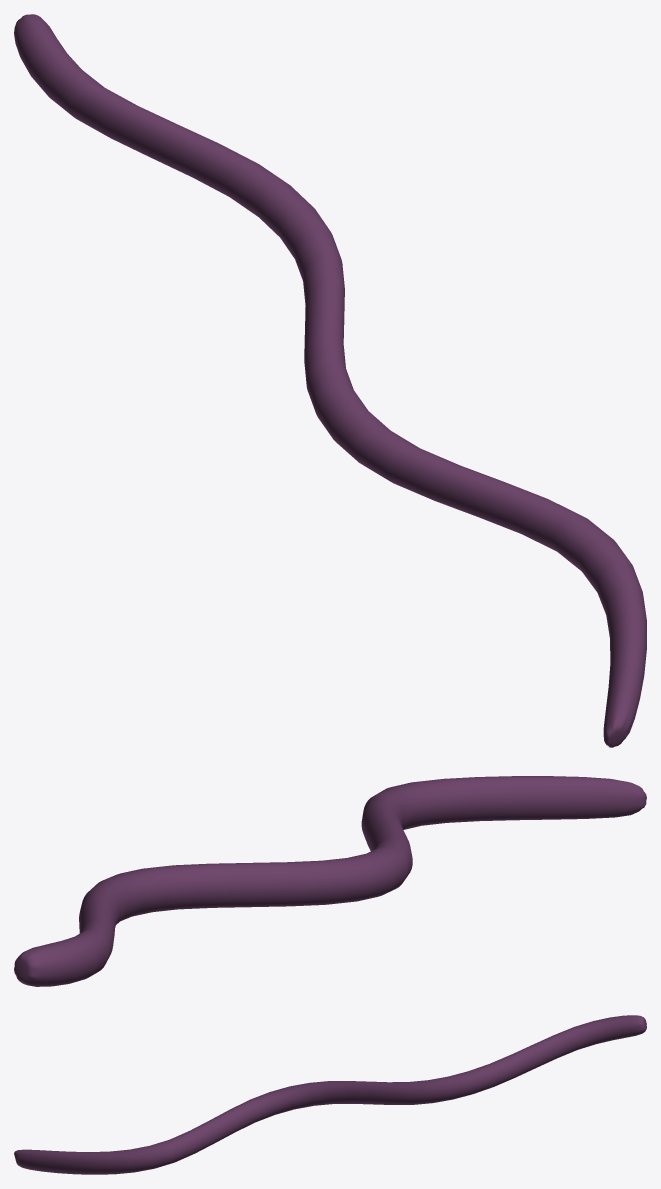
The model's file is frame_6.obj.
3 views of the same model, one above another, from view 1: azimuth 30°, elevation 25°; view 2: azimuth 150°, elevation 25°; view 3: azimuth 270°, elevation 25° (orthographic). The views are drawn at different scales.
Parts seen in each view (by area): view 1: worm2; view 2: worm2; view 3: worm2.
Part boxes in pixels (x1,y1,x2,y2): worm2: (14,14,646,747); worm2: (14,776,646,986); worm2: (14,1015,646,1174).
Size of the model in its own units: 248 by 457 by 1723.
